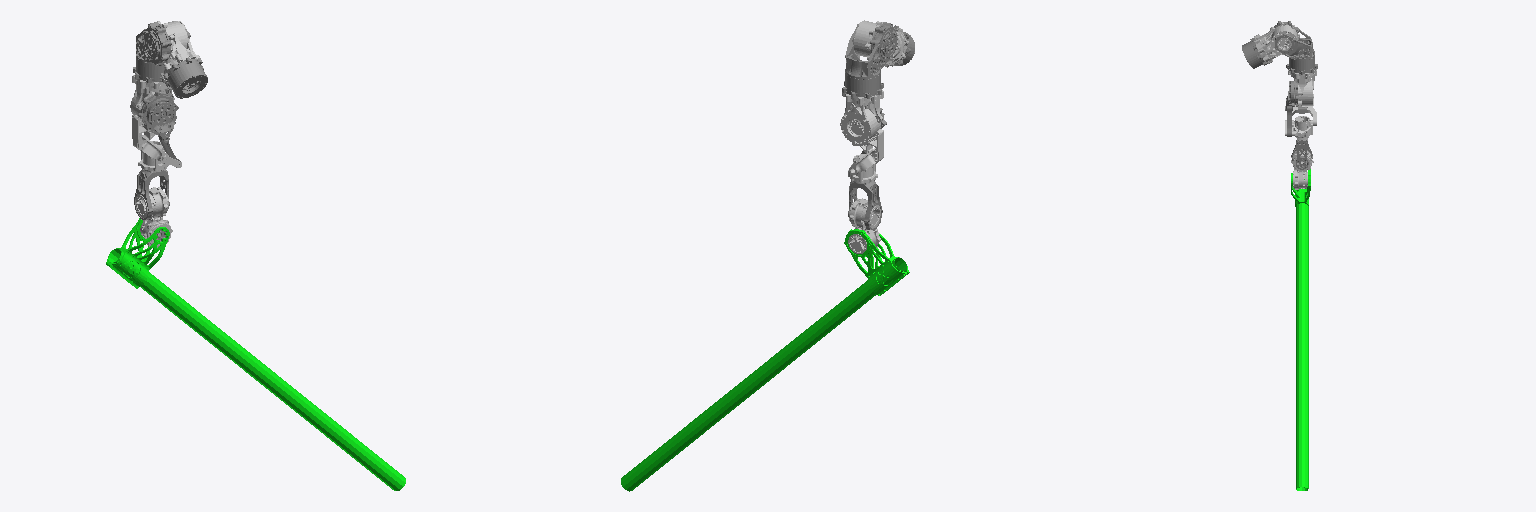
robot.urdf — raipal_saber_L:
<?xml version="1.0" encoding="utf-8"?>
<robot name="raipal_saber_L">
  <!-- [URDF-WRITER] Created with urdf-writer script (by CHH) on 2026-01-27 21:55:36.753476-->

  <!-- [URDF-WRITER] from module [_fixed-base] -->

  <!-- this link makes the robot fixed-base in RAISIM -->
  <link name="world"></link>

  <link name="base"></link>

  <joint name="base_fix" type="fixed">
    <origin xyz="0 0 0.8" rpy="0 0 0"/>
    <parent link="world" />
    <child link="base" />
    <axis xyz="0 0 0" />
  </joint>


  <!-- [URDF-WRITER] from module [raipal_L] -->

  <link name="L_base">
    <!-- CHH / 2025-09-01-20:14 -->
    <!-- mirrored from [L_base] (frame: R0_base)-->
    <inertial>
      <origin 
        xyz="-0.00013000 0.06389000 -0.05559000"
        rpy="0 0 0" />
      <mass value="0.79658000" />
      <inertia
          ixx="0.00074742"
          ixy="-1.892780e-6"
          ixz="-1.179560e-6"
          iyy="0.00098187"
          iyz="0.00013334"
          izz="0.00082394" />
    </inertial>
    <visual>
      <origin
        xyz="0 0 0"
        rpy="0 0 0" />
      <geometry>
        <mesh filename="../meshes/L_base.STL" />
      </geometry>
      <material name="">
        <color rgba=".6 .6 .6 1" />
      </material>
    </visual>
    <!--</collision>
      <origin
        xyz="0 0 0"
        rpy="0 0 0" />
      <geometry>
        <mesh filename="../meshes/L_base.STL" />
      </geometry>
    </collision>-->
  </link>

  <joint name="L_fix" type="fixed">
    <origin xyz="0 0 0" rpy="0 0 0"/>
    <parent link="base" />
    <child link="L_base" />
    <axis xyz="0 0 0" />
  </joint>

  <link name="L_collar">
    <!-- CHH / 2025-09-01-20:14 -->
    <!-- mirrored from [L_collar] (frame: R1_flexion)-->
    <inertial>
      <origin 
        xyz="0.00471000 1.000000e-5 0.10057000"
        rpy="0 0 0" />
      <mass value="1.72283000" />
      <inertia
          ixx="0.00466072"
          ixy="-5.127800e-7"
          ixz="-0.00028338"
          iyy="0.00434837"
          iyz="-8.010400e-7"
          izz="0.00167296" />
    </inertial>
    <visual>
      <origin
        xyz="0 0 0"
        rpy="0 0 0" />
      <geometry>
        <mesh filename="../meshes/L_collar.STL" />
      </geometry>
      <material name="">
        <color rgba="0.8 0.8 0.8 1" />
      </material>
    </visual>
    <!--</collision>
      <origin
        xyz="0 0 0"
        rpy="0 0 0" />
      <geometry>
        <mesh filename="../meshes/L_collar.STL" />
      </geometry>
    </collision>-->
  </link>

  <joint name="L1_flexion" type="revolute"> <!--[0]-->
    <origin
      xyz="0 0.037198 -0.0709"
      rpy="-1.0472 0 0" />
    <parent link="L_base" />
    <child link="L_collar" />
    <axis
      xyz="0 0 -1" />
    <limit
      lower="-1.57"
      upper="3.14"
      effort="181"
      velocity="13.9" />
    <dynamics rotor_inertia = "0.0576402034658611" />
    <!-- Calculated by CHH on 2025-09-01-20:14-->  
  </joint>

  <link name="L_shoulder">
    <!-- CHH / 2025-09-01-20:14 -->
    <!-- mirrored from [L_shoulder] (frame: R2_adduction)-->
    <inertial>
      <origin 
        xyz="-0.03309000 -0.04277000 0.04408000"
        rpy="0 0 0" />
      <mass value="1.92988000" />
      <inertia
          ixx="0.00554587"
          ixy="-0.00224326"
          ixz="-0.00046924"
          iyy="0.00422168"
          iyz="-0.00058524"
          izz="0.00699049" />
    </inertial>
    <visual>
      <origin
        xyz="0 0 0"
        rpy="0 0 0" />
      <geometry>
        <mesh filename="../meshes/L_shoulder.STL" />
      </geometry>
      <material name="">
        <color rgba="0.6 0.6 0.6 1" />
      </material>
    </visual>
    <!--</collision>
      <origin
        xyz="0 0 0"
        rpy="0 0 0" />
      <geometry>
        <mesh filename="../meshes/L_shoulder.STL" />
      </geometry>
    </collision>-->
  </link>

  <joint name="L2_adduction" type="revolute"> <!--[1]-->
    <origin
      xyz="0.0373 0 0.1418"
      rpy="1.5707963267949 1.0472 -1.5707963267949" />
    <parent link="L_collar" />
    <child link="L_shoulder" />
    <axis
      xyz="0 0 1" />
    <limit
      lower="-2.618"
      upper="0.488"
      effort="181"
      velocity="13.9" />
    <dynamics rotor_inertia = "0.0576402034658611" /> <!-- CHH / 2025-09-01-20:30-->
  </joint>

  <link name="L_humerus">
    <!-- CHH / 2025-09-01-20:14 -->
    <!-- mirrored from [L_humerus] (frame: R3_rotation)-->
    <inertial>
      <origin 
        xyz="-0.00369000 -0.00351000 0.11625000"
        rpy="0 0 0" />
      <mass value="1.96262000" />
      <inertia
          ixx="0.00777442"
          ixy="1.197057e-5"
          ixz="0.00065917"
          iyy="0.00822155"
          iyz="0.00015972"
          izz="0.00201683" />
    </inertial>
    <visual>
      <origin
        xyz="0 0 0"
        rpy="0 0 0" />
      <geometry>
        <mesh filename="../meshes/L_humerus.STL" />
      </geometry>
      <material name="">
        <color rgba="0.8 0.8 0.8 1" />
      </material>
    </visual>
    <!--</collision>
      <origin
        xyz="0 0 0"
        rpy="0 0 0" />
      <geometry>
        <mesh filename="../meshes/L_humerus.STL" />
      </geometry>
    </collision>-->
  </link>

  <joint name="L3_rotation" type="revolute"> <!--[2]-->
    <origin
      xyz="-0.06 -0.06025 0.0373"
      rpy="1.5707963267949 1.5707963267949 0" />
    <parent link="L_shoulder" />
    <child link="L_humerus" />
    <axis
      xyz="0 0 1" />
    <limit
      lower="-3.14"
      upper="3.14"
      effort="181"
      velocity="13.9" />
    <dynamics rotor_inertia = "0.0576402034658611" /> <!-- CHH / 2025-09-01-20:30-->
  </joint>

  <link name="L_elb_input">
    <!-- CHH / 2025-09-01-20:14 -->
    <!-- mirrored from [L_elb_input] (frame: R4a_elbow_power)-->
    <inertial>
      <origin 
        xyz="-2.000000e-5 -0.00335000 0.05897000"
        rpy="0 0 0" />
      <mass value="0.83412000" />
      <inertia
          ixx="0.00071114"
          ixy="-7.660000e-7"
          ixz="-9.255500e-7"
          iyy="0.00059983"
          iyz="5.504818e-5"
          izz="0.00080767" />
    </inertial>
    <visual>
      <origin
        xyz="0 0 0"
        rpy="0 0 0" />
      <geometry>
        <mesh filename="../meshes/L_elb_input.STL" />
      </geometry>
      <material name="">
        <color rgba="0.6 0.6 0.6 1" />
      </material>
    </visual>
    <!--</collision>
      <origin
        xyz="0 0 0"
        rpy="0 0 0" />
      <geometry>
        <mesh filename="../meshes/L_elb_input.STL" />
      </geometry>
    </collision>-->
  </link>

  <joint name="L4a_elbow_power" type="revolute"> <!--[3]-->
    <origin
      xyz="0 -0.0373 0.1418"
      rpy="-1.5707963267949 0 0" />
    <parent link="L_humerus" />
    <child link="L_elb_input" />
    <axis
      xyz="0 0 -1" />
    <limit
      lower="0"
      upper="1.556"
      effort="181"
      velocity="13.9" />
    <dynamics rotor_inertia = "0.0576402034658611" /> <!-- CHH / 2025-09-01-20:30-->
  </joint>

  <link name="L_elb_bar">
    <!-- CHH / 2025-09-01-20:14 -->
    <!-- mirrored from [L_elb_bar] (frame: R4b_elbow_bar_input)-->
    <inertial>
      <origin 
        xyz="0.04274000 -0.00159000 -4.000000e-5"
        rpy="0 0 0" />
      <mass value="0.05314000" />
      <inertia
          ixx="2.335610e-6"
          ixy="0.0"
          ixz="0.0"
          iyy="6.149582e-5"
          iyz="3.110000e-9"
          izz="6.199993e-5" />
    </inertial>
    <visual>
      <origin
        xyz="0 0 0"
        rpy="0 0 0" />
      <geometry>
        <mesh filename="../meshes/L_elb_bar.STL" />
      </geometry>
      <material name="">
        <color rgba="0.5 0.5 0.5 1" />
      </material>
    </visual>
    <!--</collision>
      <origin
        xyz="0 0 0"
        rpy="0 0 0" />
      <geometry>
        <mesh filename="../meshes/L_elb_bar.STL" />
      </geometry>
    </collision>-->
  </link>

  <joint name="L4b_elbow_bar_input" type="revolute">  <!--[4-unpowered]-->
    <origin
      xyz="0.00134978286029327 -0.0599848154638326 0.0812119041053838"
      rpy="0 0 -1.12941902735751" />
    <parent link="L_elb_input" />
    <child link="L_elb_bar" />
    <axis
      xyz="0 0 1" />
    <limit
      lower="0"
      upper="1.802"
      effort="0"
      velocity="100" />
  </joint>

  <link name="L_ulna">
    <!-- CHH / 2025-09-01-20:14 -->
    <!-- mirrored from [L_ulna] (frame: R4_elbow)-->
    <inertial>
      <origin 
        xyz="0.00533000 -0.01576000 -0.03891000"
        rpy="0 0 0" />
      <mass value="0.36947000" />
      <inertia
          ixx="0.00032310"
          ixy="1.385696e-5"
          ixz="-4.244104e-5"
          iyy="0.00036383"
          iyz="5.919040e-6"
          izz="0.00020708" />
    </inertial>
    <visual>
      <origin
        xyz="0 0 0"
        rpy="0 0 0" />
      <geometry>
        <mesh filename="../meshes/L_ulna.STL" />
      </geometry>
      <material name="">
        <color rgba="0.8 0.8 0.8 1" />
      </material>
    </visual>
    <!--</collision>
      <origin
        xyz="0 0 0"
        rpy="0 0 0" />
      <geometry>
        <mesh filename="../meshes/L_ulna.STL" />
      </geometry>
    </collision>-->
  </link>

  <joint name="L4_elbow" type="revolute">  <!--[5-unpowered]-->
    <origin
      xyz="0 0.043912 0.25475"
      rpy="-1.5707963267949 0 0" />
    <parent link="L_humerus" />
    <child link="L_ulna" />
    <axis
      xyz="0 0 1" />
    <limit
      lower="0"
      upper="2.2689"
      effort="0"
      velocity="100" />
  </joint>

  <link name="L_radius">
    <!-- CHH / 2025-09-01-20:14 -->
    <!-- link name: [L_radius]-->
    <!-- frame: [L5_roll]-->
    <inertial>
      <origin 
        xyz="0.00151000 0.0 0.10290000"
        rpy="0 0 0" />
      <mass value="0.42307000" />
      <inertia
          ixx="0.00112662"
          ixy="1.975000e-8"
          ixz="-5.589578e-5"
          iyy="0.00120471"
          iyz="-1.556000e-8"
          izz="0.00024138" />
    </inertial>
    <visual>
      <origin
        xyz="0 0 0"
        rpy="0 0 0" />
      <geometry>
        <mesh filename="../meshes/L_radius.STL" />
      </geometry>
      <material name="">
        <color rgba="0.6 0.6 0.6 1" />
      </material>
    </visual>
    <!--<collision>
      <origin
        xyz="0 0 0"
        rpy="0 0 0" />
      <geometry>
        <mesh filename="../meshes/L_radius.STL" />
      </geometry>
    </collision>-->
  </link>

  <joint name="L5_roll" type="revolute"> <!--[6]-->
    <origin
      xyz="0 0.0135819531869474 -0.0439119041053754"
      rpy="1.5707963267949 0 0" />
    <parent link="L_ulna" />
    <child link="L_radius" />
    <axis
      xyz="0 0 1" />
    <limit
      lower="-1.57"
      upper="1.57"
      effort="12.61"
      velocity="53.8" />
    <dynamics rotor_inertia = "0.000540543349430043" /> <!-- CHH / 2025-09-01-20:30-->
  </joint>

  <link name="L_carpal">
    <!-- CHH / 2025-09-01-20:14 -->
    <!-- link name: [L_carpal]-->
    <!-- frame: [L6_pitch]-->
    <inertial>
      <origin 
        xyz="-0.00117000 -0.03421000 0.02964000"
        rpy="0 0 0" />
      <mass value="0.67981000" />
      <inertia
          ixx="0.00128813"
          ixy="-3.134577e-5"
          ixz="3.268690e-6"
          iyy="0.00040998"
          iyz="9.323146e-5"
          izz="0.00126953" />
    </inertial>
    <visual>
      <origin
        xyz="0 0 0"
        rpy="0 0 0" />
      <geometry>
        <mesh filename="../meshes/L_carpal.STL" />
      </geometry>
      <material name="">
        <color rgba="0.8 0.8 0.8 1" />
      </material>
    </visual>
    <!--<collision>
      <origin
        xyz="0 0 0"
        rpy="0 0 0" />
      <geometry>
        <mesh filename="../meshes/L_carpal.STL" />
      </geometry>
    </collision>-->
  </link>

  <joint name="L6_pitch" type="revolute"> <!--[7]-->
    <origin
      xyz="-0.0337 0 0.153581953186935"
      rpy="-1.5707963267949 0 -1.5707963267949" />
    <parent link="L_radius" />
    <child link="L_carpal" />
    <axis
      xyz="0 0 -1" />
    <limit
      lower="-2.0944"
      upper="2.0944"
      effort="12.61"
      velocity="53.8" />
    <dynamics rotor_inertia = "0.000540543349430043" /> <!-- CHH / 2025-09-01-20:30-->
  </joint>

  <link name="L_ee">
    <!-- CHH / 2025-09-01-20:14 -->
    <!-- link name: [L_ee]-->
    <!-- frame: [L7_yaw]-->
    <inertial>
      <origin 
        xyz="0.0 0.0 0.04531000"
        rpy="0 0 0" />
      <mass value="0.13143000" />
      <inertia
          ixx="3.339173e-5"
          ixy="0.0"
          ixz="0.0"
          iyy="3.339173e-5"
          iyz="0.0"
          izz="4.133016e-5" />
    </inertial>
    <visual>
      <origin
        xyz="0 0 0"
        rpy="0 0 0" />
      <geometry>
        <mesh filename="../meshes/L_ee.STL" />
      </geometry>
      <material name="">
        <color rgba="0.6 0.6 0.6 1" />
      </material>
    </visual>
    <!--<collision>
      <origin
        xyz="0 0 0"
        rpy="0 0 0" />
      <geometry>
        <mesh filename="../meshes/L_ee.STL" />
      </geometry>
    </collision>-->
  </link>

  <joint name="L7_yaw" type="revolute"> <!--[8]-->
    <origin
      xyz="0.0264 -0.073 0.0337"
      rpy="0 -1.5707963267949 0" />
    <parent link="L_carpal" />
    <child link="L_ee" />
    <axis
      xyz="0 0 1" />
    <limit
      lower="-1.57079"
      upper="1.57079"
      effort="12.61"
      velocity="53.8" />
    <dynamics rotor_inertia = "0.000540543349430043" /> <!-- CHH / 2025-09-01-20:30-->
  </joint>

  <!-- imaginary links for loop closure -->
  <link name="L_loop_barside"></link>

  <joint name="L4cA_elbow_loop_bar" type="fixed">
    <origin
      xyz="0.0854747786370337 0 0"
      rpy="0 0 0" />
    <parent link="L_elb_bar" />
    <child link="L_loop_barside" />
    <axis
      xyz="0 0 -1" />
    <limit
      lower="-3.14"
      upper="3.14"
      effort="0"
      velocity="100" />
  </joint>

  <link name="L_loop_ulnaside"></link>

  <joint name="L4cB_elbow_loop_ulna_fixed" type="fixed">
    <origin
      xyz="0.0378633410992504 -0.0243180468130526 0"
      rpy="0 0 -1.12941902735751" />
    <parent link="L_ulna" />
    <child link="L_loop_ulnaside" />
    <axis
      xyz="0 0 0" />
  </joint>

  

  <!-- [URDF-WRITER] from module [saber_L] -->
  <link name="L_saber">
    <!-- CHH / 2025-09-01-20:14 -->
    <!-- link name: [L_saber]-->
    <!-- frame: [LE_end-effector]-->
    <inertial>
      <origin 
        xyz="0.11183000 -0.21907000 0.02364000"
        rpy="0 0 0" />
      <mass value="0.30670000" />
      <inertia
          ixx="0.02001065"
          ixy="0.01687536"
          ixz="-9.085322e-5"
          iyy="0.01548451"
          iyz="0.00019124"
          izz="0.03529250" />
    </inertial>
    <visual>
      <origin
        xyz="0 0 0"
        rpy="0 0 0" />
      <geometry>
        <mesh filename="../meshes/L_saber.STL" />
      </geometry>
      <material name="">
        <color rgba="0.1 1 0.15 1" />
      </material>
    </visual>
    <!--<collision>
      <origin
        xyz="0 0 0"
        rpy="0 0 0" />
      <geometry>
        <mesh filename="../meshes/L_saber.STL" />
      </geometry>
    </collision>-->
    <collision>
      <origin
        xyz="0.28803051240434 -0.44003051240434 0.0264 "
        rpy="0.7854 -1.5708 -1.5708" />
      <geometry>
        <cylinder radius="0.02125" length="1.126" />
      </geometry>
    </collision>
  </link>

  <joint name="LE_end_effector_fixed" type="fixed">
    <origin
      xyz="0 0 0"
      rpy="0 0 0" />
    <parent link="L_ee" />
    <child link="L_saber" />
    <axis
      xyz="0 0 0" />
  </joint>
  <!-- [URDF-WRITER] merged constraints -->
  <constraints nominal_config="0 0 0 0 0 0 0 0 0 0 0 0 0 0 0 0 0 0 0 0 0">
    <pin body1="L_loop_barside" body2="L_loop_ulnaside" anchor="0.0 0.0 0.0"/>
  </constraints>

</robot>

--- What the picture shows (computed from the rendered views, not written in the file) ---
3 views of the same robot in one strip: view 1: azimuth 30°, elevation 25°; view 2: azimuth 150°, elevation 25°; view 3: azimuth 270°, elevation 25° (orthographic).
Model raipal_saber_L with 15 links and 14 joints (9 revolute, 5 fixed), rooted at world, posed all joints at 0.
Links seen in each view (by area): view 1: L_saber, L_shoulder, L_humerus, L_elb_input, L_base, L_carpal, L_collar, L_radius, L_ulna; view 2: L_saber, L_shoulder, L_humerus, L_carpal, L_collar, L_radius; view 3: L_saber, L_shoulder, L_collar, L_humerus.
Link boxes in pixels (x1,y1,x2,y2): L_saber: (106, 218, 405, 490); L_shoulder: (133, 22, 190, 82); L_humerus: (130, 75, 174, 162); L_elb_input: (138, 92, 178, 142); L_base: (163, 57, 207, 98); L_carpal: (136, 187, 172, 247); L_collar: (157, 21, 199, 79); L_radius: (134, 169, 169, 219); L_ulna: (138, 141, 181, 172); L_saber: (621, 229, 909, 491); L_shoulder: (842, 22, 897, 98); L_humerus: (840, 90, 883, 174); L_carpal: (848, 198, 880, 253); L_collar: (853, 20, 908, 66); L_radius: (848, 181, 882, 229); L_saber: (1291, 169, 1310, 490); L_shoulder: (1270, 21, 1317, 74); L_collar: (1254, 22, 1299, 63); L_humerus: (1288, 69, 1316, 125).
Bounding box of the posed robot: 0.8307 × 0.2589 × 1.43 m (x, y, z).
11 mesh visuals loaded from 11 distinct referenced files (11 binary STL).
